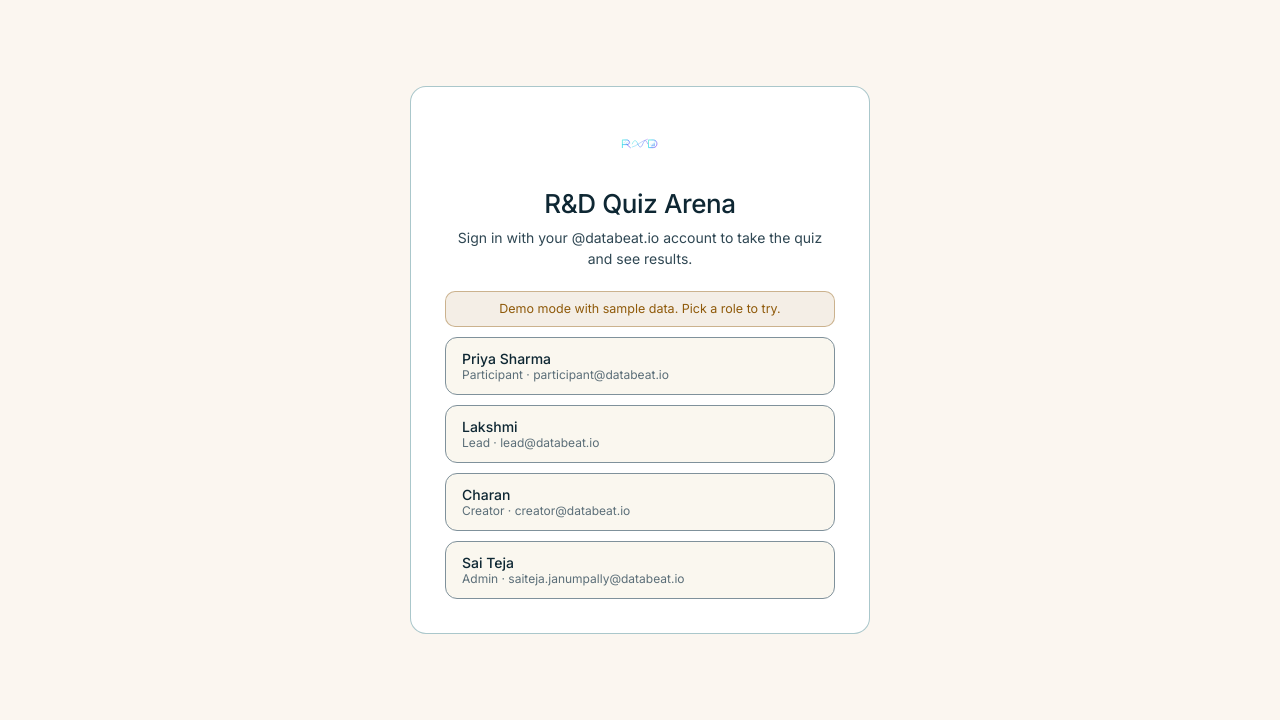
Test: quiz editor › blocks a creator from editing a quiz they do not own, and lets them request access
The image size is (1280, 720).
Click the button "Charan Creator · creator@databeat.io" at (486,495), box [445, 473, 835, 531]
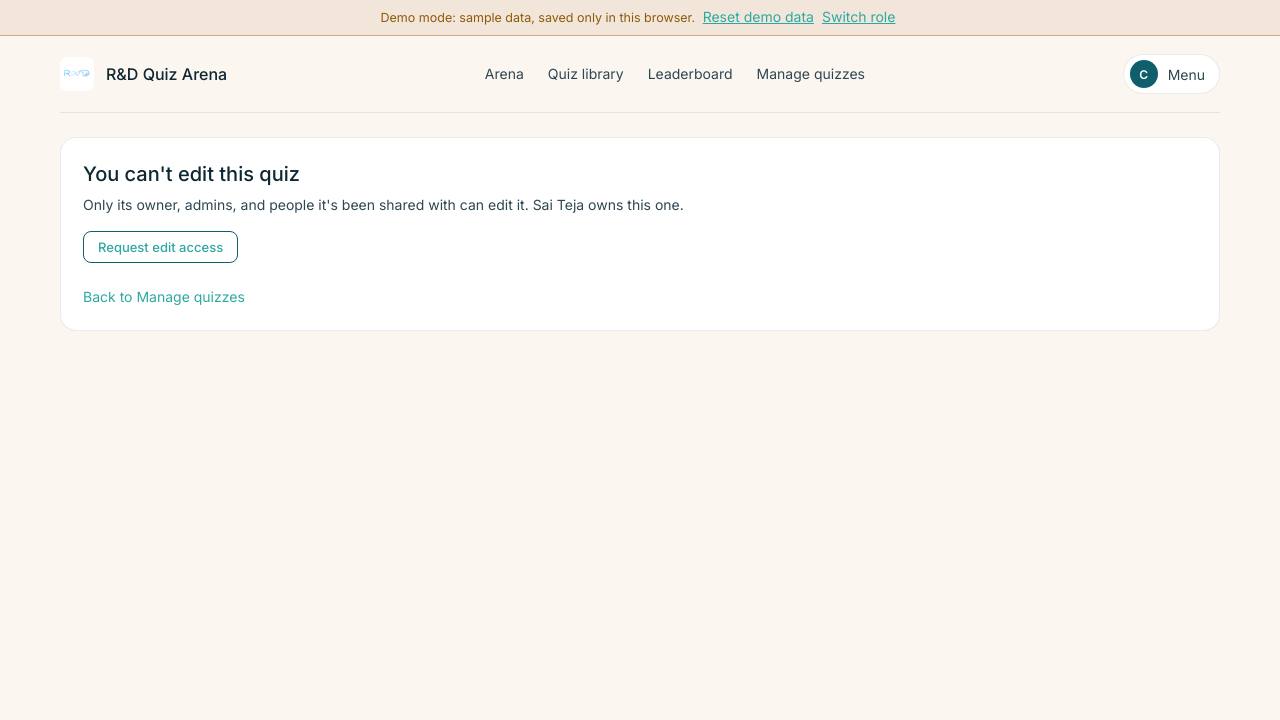
Expected: the text "You can't edit this quiz" is shown, [83, 162, 300, 186]
Expected: the text "Sai Teja owns this one" is shown, [529, 196, 684, 213]
Click the button "Request edit access" at (161,247), box [83, 231, 238, 263]
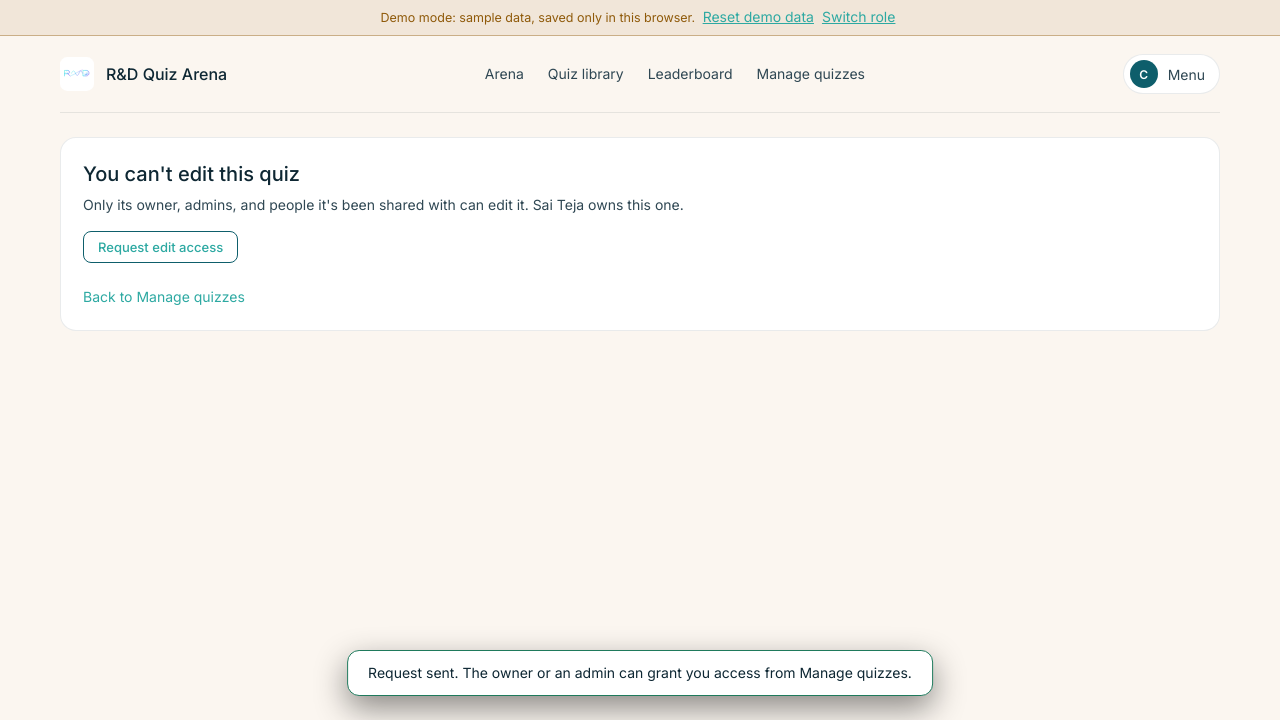
Expected: the message shows "Request sent", [368, 664, 912, 681]
